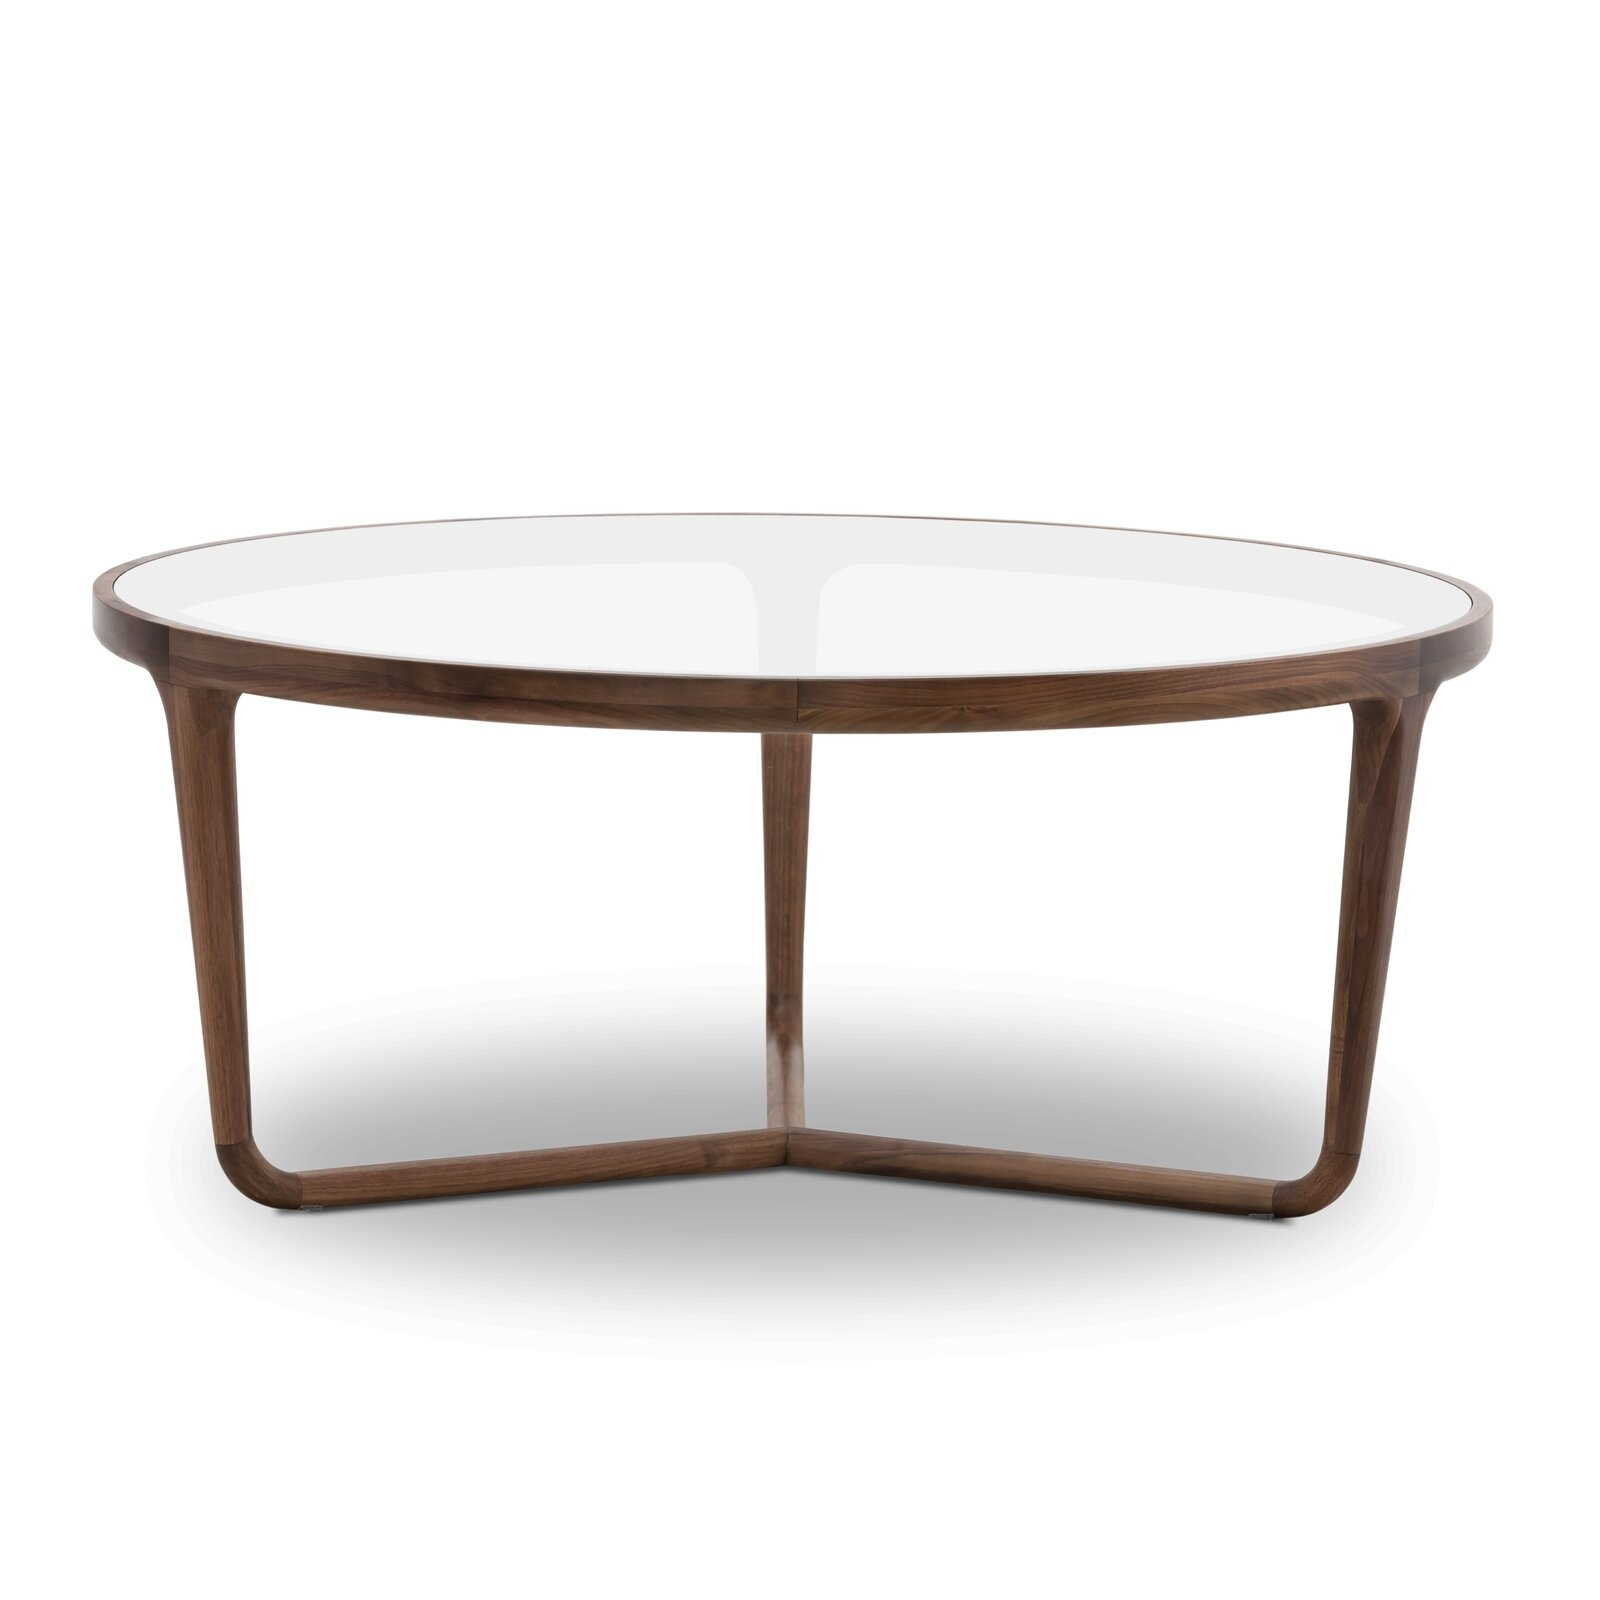obstacle: (94, 514, 1490, 1218)
